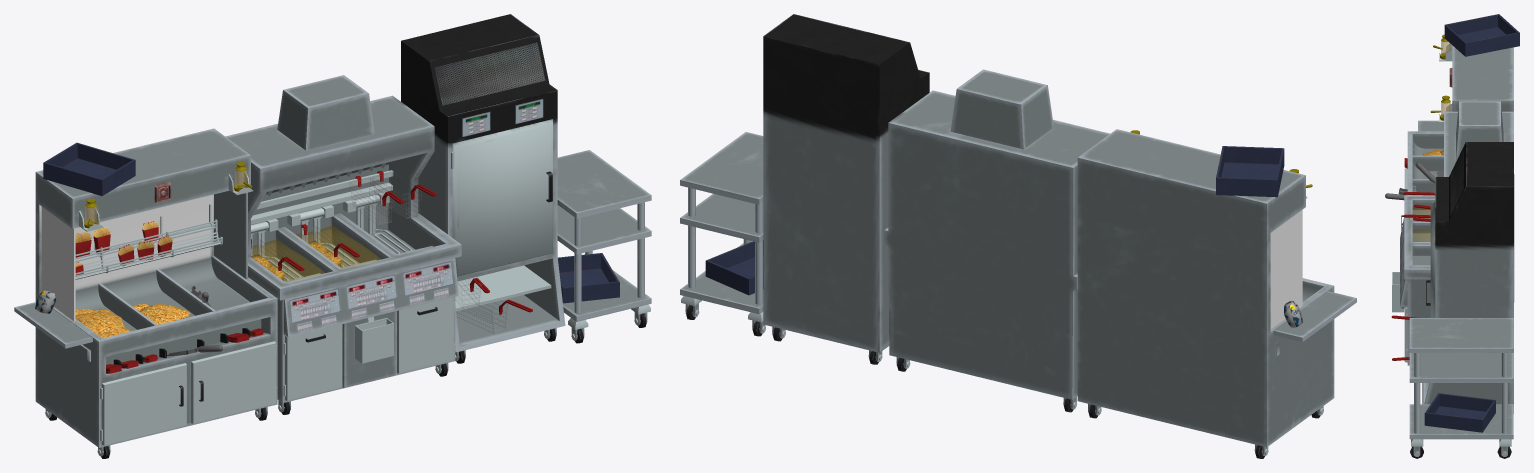
File: deep-fryer-d0e36e.glb
3 views of the same model, side by side, from view 1: azimuth 30°, elevation 25°; view 2: azimuth 150°, elevation 25°; view 3: azimuth 270°, elevation 25° (orthographic). The views are drawn at different scales.
Visible parts, largest first — view 1: PropMesh; view 2: PropMesh; view 3: PropMesh.
Part boxes in pixels (x1,y1,x2,y2): PropMesh: (14, 14, 651, 458); PropMesh: (680, 14, 1356, 458); PropMesh: (1385, 14, 1519, 458).
Bounding box in the file's own units: 3.37 × 1.6 × 0.8082.
Materials: 8 (7 with a texture image).
